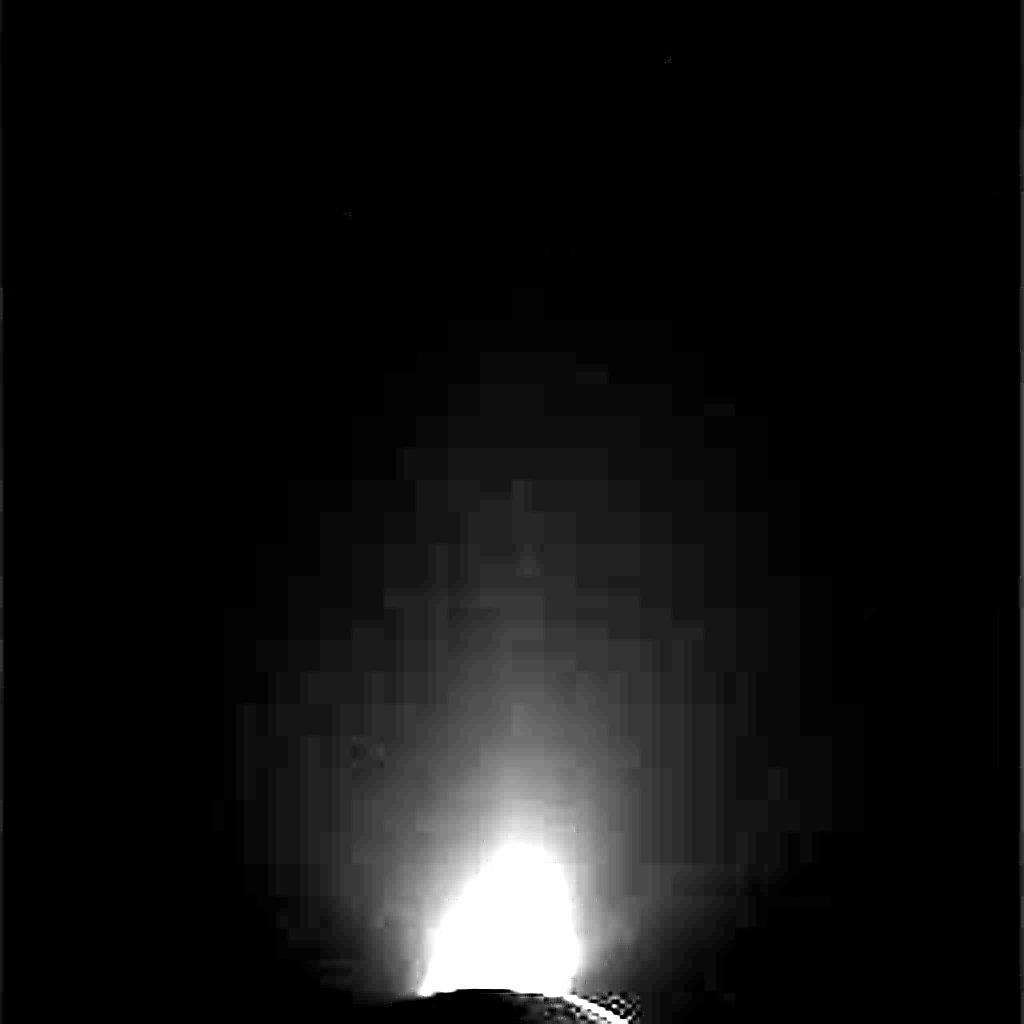plumes: (420, 842, 577, 997)
